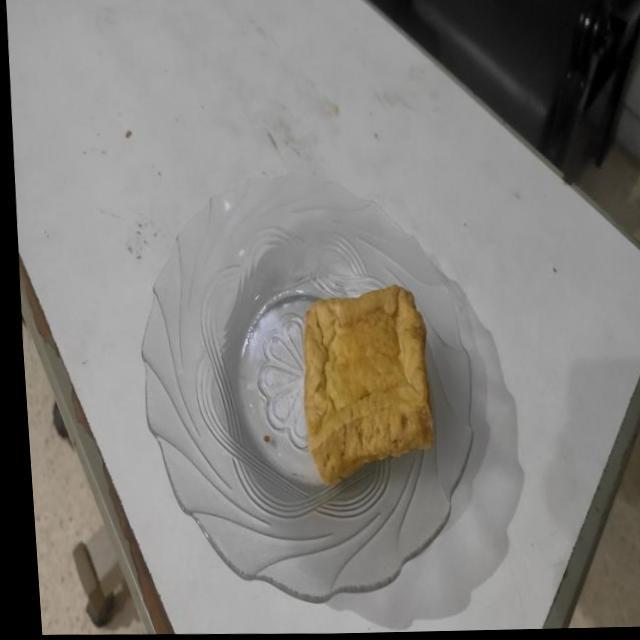tahu_goreng: (304, 284, 434, 483)
